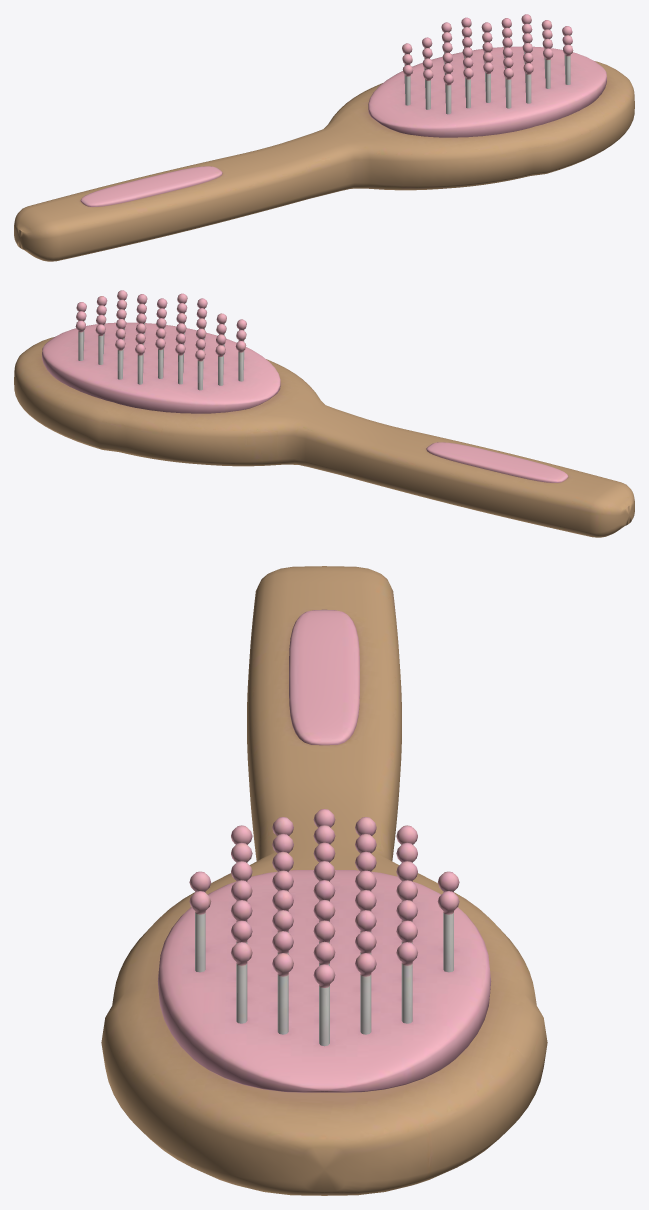
The model's file is cepillo_pelo.glb.
3 renders of one model, top to bottom at view 1: azimuth 30°, elevation 25°; view 2: azimuth 150°, elevation 25°; view 3: azimuth 270°, elevation 25°, orthographic. The views are drawn at different scales.
Visible parts, largest first — view 1: hairbrush_body; view 2: hairbrush_body; view 3: hairbrush_body.
Boxes of the visible parts, bbox=[...] form: hairbrush_body: bbox=[14, 14, 634, 261]; hairbrush_body: bbox=[14, 290, 634, 537]; hairbrush_body: bbox=[101, 566, 547, 1195].
Size of the model in its own units: 0.243 by 0.0393 by 0.0776.
Materials: 1 (1 with a texture image).
